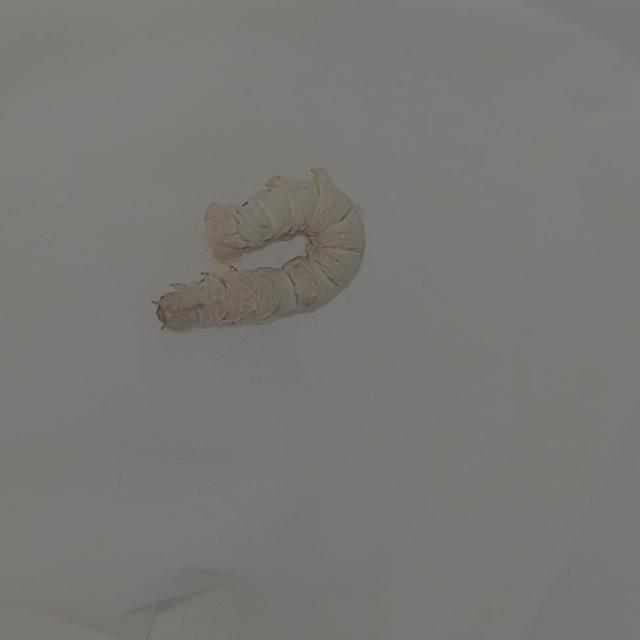Healthy: (144, 150, 383, 345)
